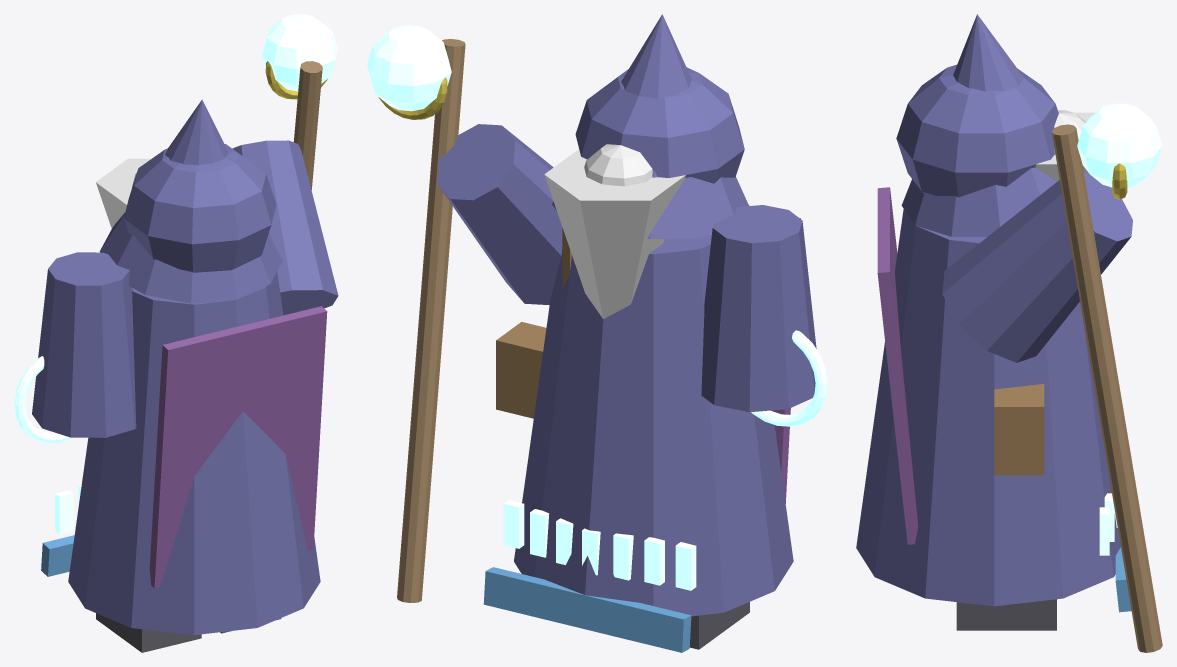
Rendered from wizard.glb.
3 views of the same model, side by side, from view 1: azimuth 30°, elevation 25°; view 2: azimuth 150°, elevation 25°; view 3: azimuth 270°, elevation 25° (orthographic). The views are drawn at different scales.
Parts seen in each view (by area): view 1: wizard; view 2: wizard; view 3: wizard.
Boxes of the visible parts, bbox=[...] form: wizard: bbox=[14, 14, 338, 652]; wizard: bbox=[367, 14, 827, 652]; wizard: bbox=[856, 14, 1162, 652].
Bounding box in the file's own units: 1.83 × 2.55 × 1.22.
